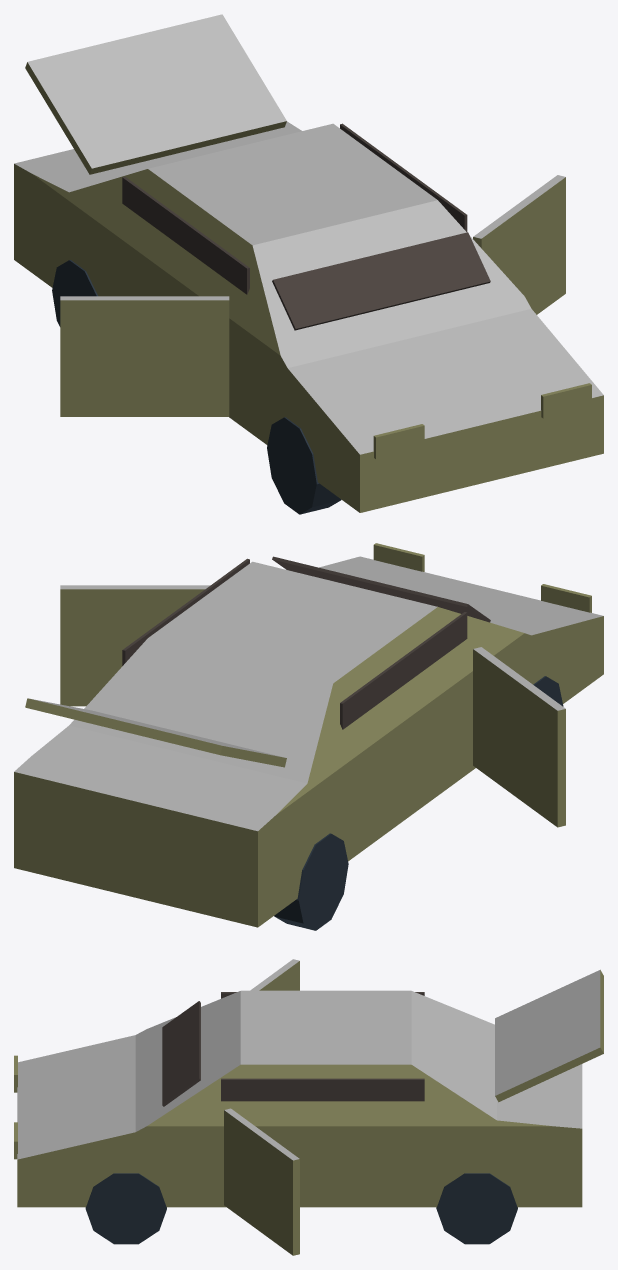
Rendered from SM_coche_2000_v5_LOD0.fbx.
The picture shows the model from 3 angles, top to bottom: view 1: azimuth 30°, elevation 25°; view 2: azimuth 150°, elevation 25°; view 3: azimuth 270°, elevation 25°; orthographic projection. The views are drawn at different scales.
Parts seen in each view (by area): view 1: SM_bloques.coche_2000_v5_LOD0; view 2: SM_bloques.coche_2000_v5_LOD0; view 3: SM_bloques.coche_2000_v5_LOD0.
Boxes of the visible parts, box(x1,y1,x2,y2) form: SM_bloques.coche_2000_v5_LOD0: box(14, 14, 603, 514); SM_bloques.coche_2000_v5_LOD0: box(14, 543, 603, 930); SM_bloques.coche_2000_v5_LOD0: box(14, 959, 603, 1255).
Bounding box in the file's own units: 3.63 × 1.57 × 4.49.
